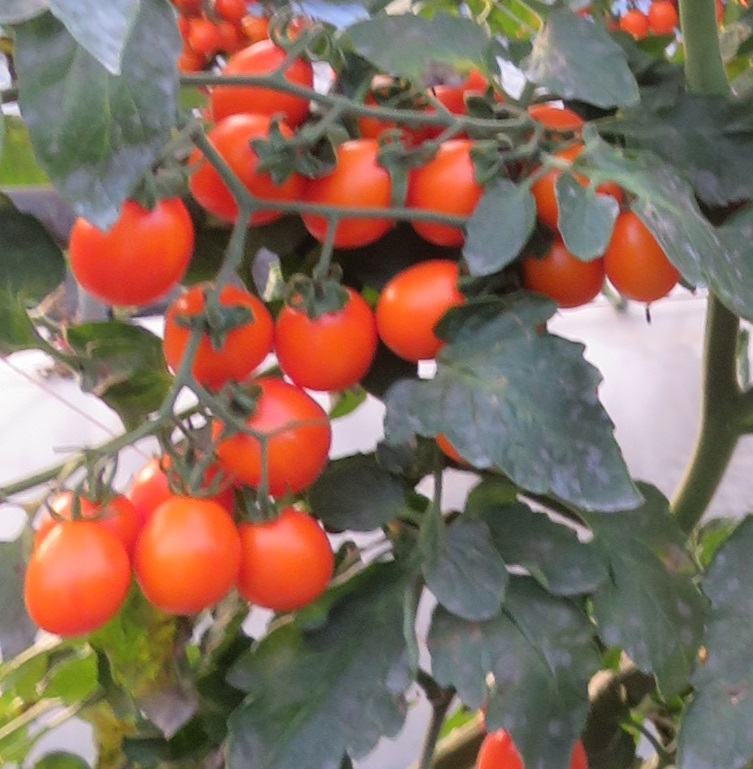orange: (203, 378, 332, 494), (62, 200, 201, 306), (298, 135, 416, 250), (21, 517, 132, 636), (135, 495, 241, 615), (190, 111, 302, 224), (276, 277, 374, 390), (230, 507, 336, 609), (164, 279, 271, 380), (378, 255, 474, 362), (405, 135, 481, 245), (598, 209, 673, 302), (209, 46, 310, 113), (528, 239, 602, 304)
